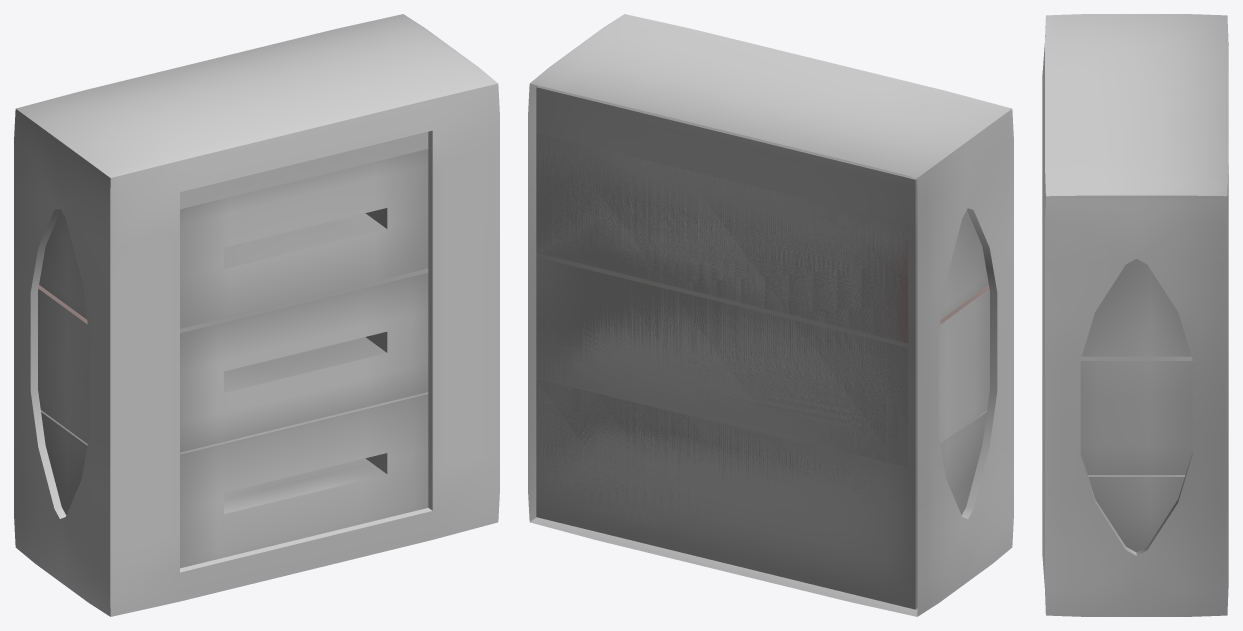
Rendered from Gloves Dispenser.fbx.
3 views of the same model, side by side, from view 1: azimuth 30°, elevation 25°; view 2: azimuth 150°, elevation 25°; view 3: azimuth 270°, elevation 25° (orthographic). The views are drawn at different scales.
Parts seen in each view (by area): view 1: Gloves; view 2: Gloves; view 3: Gloves.
Boxes of the visible parts, bbox=[...] form: Gloves: bbox=[14, 14, 499, 616]; Gloves: bbox=[528, 14, 1013, 616]; Gloves: bbox=[1042, 14, 1228, 616].
Size of the model in its own units: 33.04 by 35.68 by 14.14.
